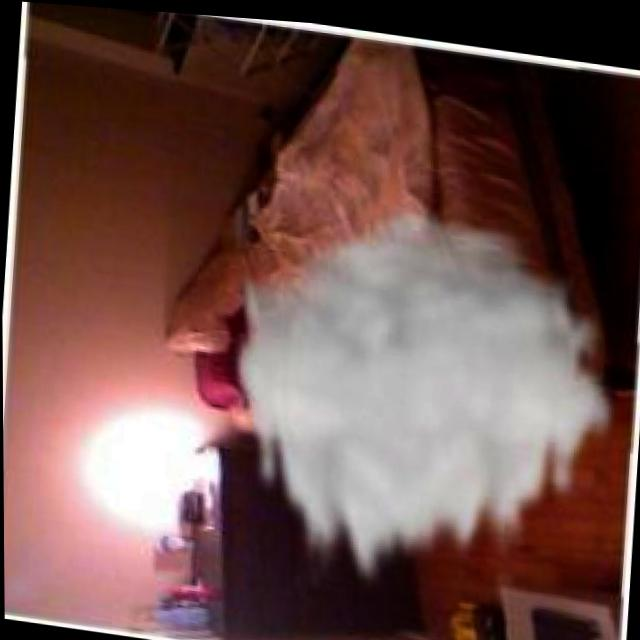Smoke: (212, 169, 633, 622)
